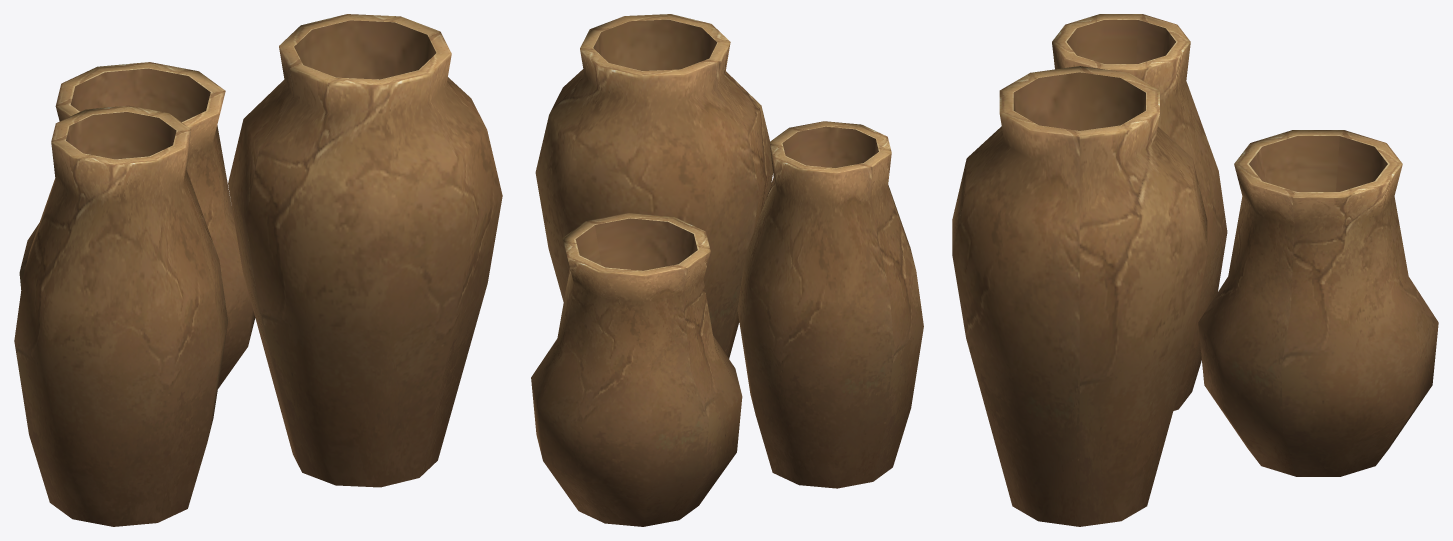
The model's file is Jugs_Preset_01.FBX.
3 views of the same model, side by side, from view 1: azimuth 30°, elevation 25°; view 2: azimuth 150°, elevation 25°; view 3: azimuth 270°, elevation 25° (orthographic). The views are drawn at different scales.
Parts seen in each view (by area): view 1: Jugs_Preset_01; view 2: Jugs_Preset_01; view 3: Jugs_Preset_01.
Part boxes in pixels (box(x1,y1,x2,y2)): Jugs_Preset_01: box(14, 14, 502, 526); Jugs_Preset_01: box(531, 14, 923, 526); Jugs_Preset_01: box(952, 14, 1438, 526).
Bounding box in the file's own units: 91.52 × 91.89 × 82.48.
